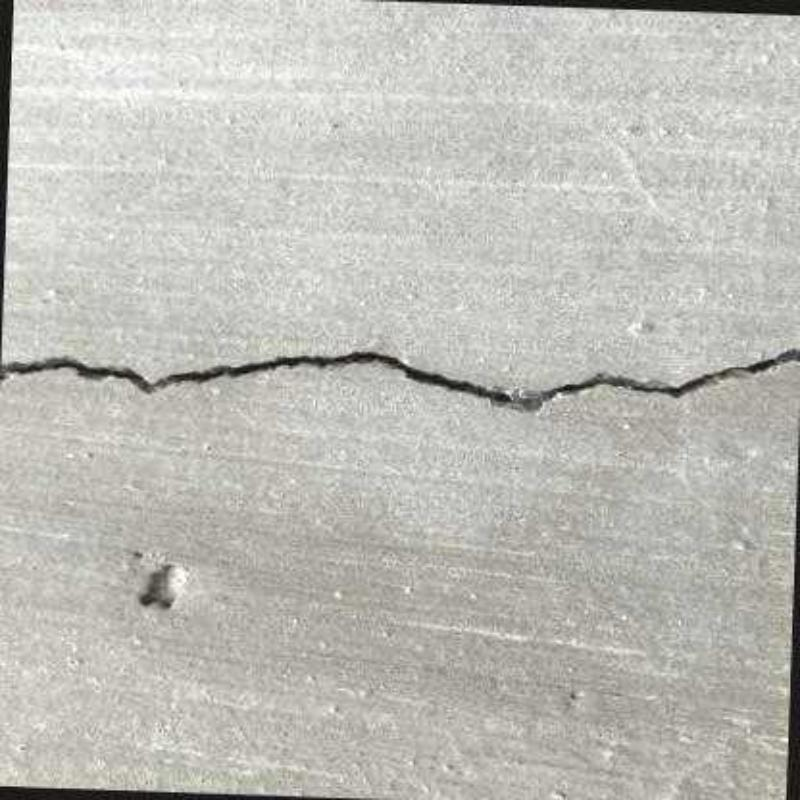crack: (0, 343, 800, 413)
